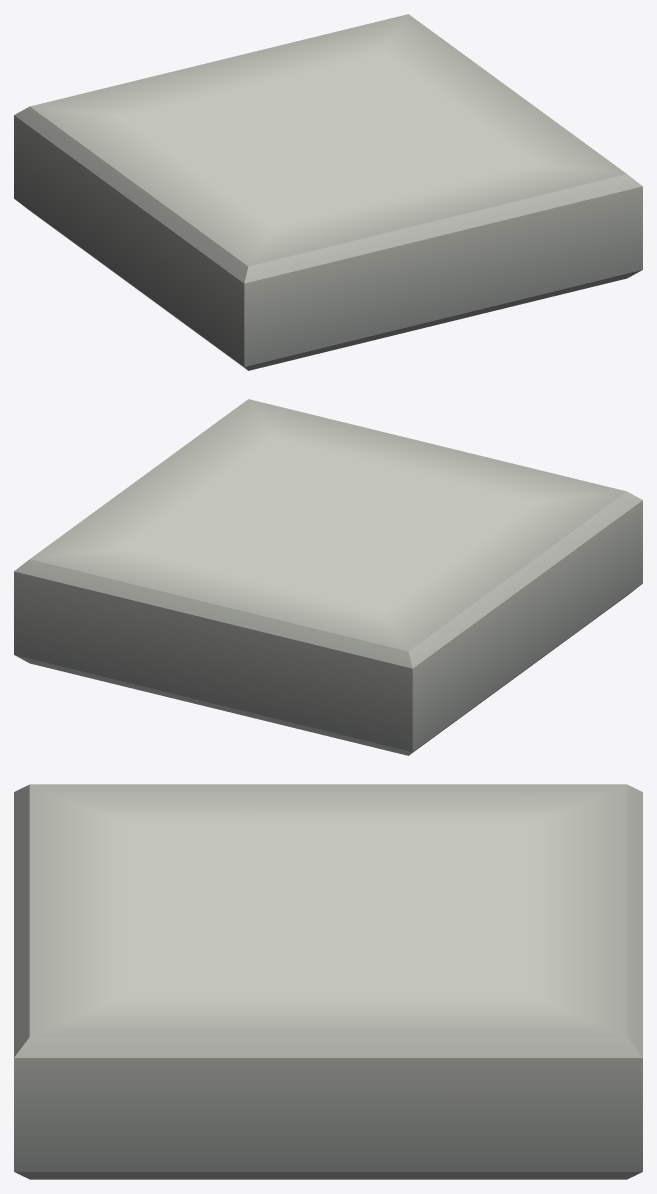
The model's file is Tile_Concrete_Medium_01.fbx.
3 views of the same model, one above another, from view 1: azimuth 30°, elevation 25°; view 2: azimuth 150°, elevation 25°; view 3: azimuth 270°, elevation 25° (orthographic). The views are drawn at different scales.
Parts seen in each view (by area): view 1: Tile_Concrete_Medium_01; view 2: Tile_Concrete_Medium_01; view 3: Tile_Concrete_Medium_01.
Boxes of the visible parts, bbox=[...] form: Tile_Concrete_Medium_01: bbox=[14, 14, 642, 370]; Tile_Concrete_Medium_01: bbox=[14, 399, 642, 755]; Tile_Concrete_Medium_01: bbox=[14, 784, 642, 1179].
Size of the model in its own units: 200 by 50 by 200.
